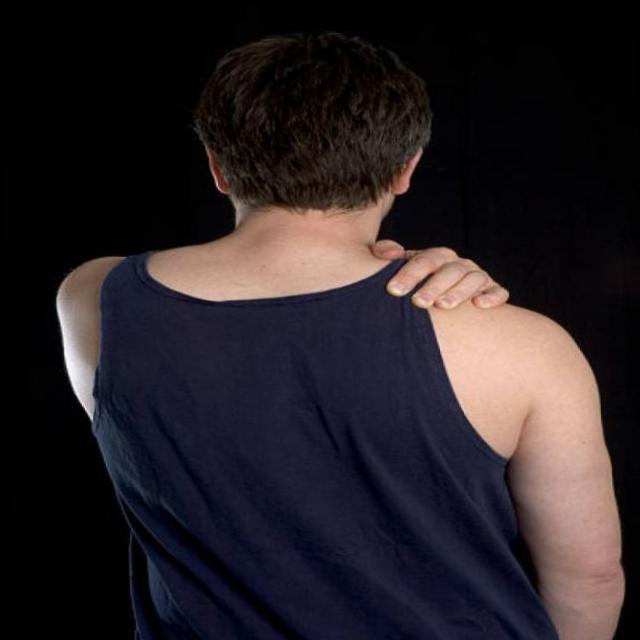no helmet: (190, 29, 436, 250)
